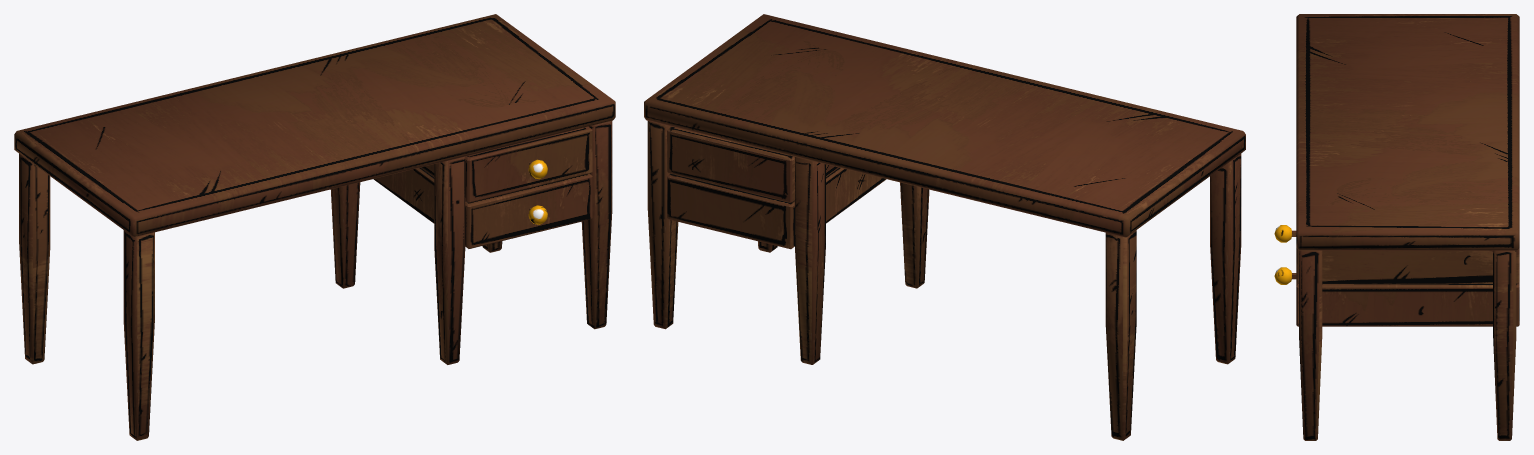
Rendered from Desk.glb.
3 views of the same model, side by side, from view 1: azimuth 30°, elevation 25°; view 2: azimuth 150°, elevation 25°; view 3: azimuth 270°, elevation 25° (orthographic). The views are drawn at different scales.
Visible parts, largest first — view 1: Desk, Desk.002, Desk.001; view 2: Desk, Desk.002, Desk.001; view 3: Desk, Desk.002, Desk.001.
Part boxes in pixels (<box>): Desk: <box>14,14,615,440</box>; Desk.002: <box>373,167,592,248</box>; Desk.001: <box>420,126,592,202</box>; Desk: <box>644,14,1245,440</box>; Desk.002: <box>667,167,886,249</box>; Desk.001: <box>667,126,838,202</box>; Desk: <box>1296,14,1519,440</box>; Desk.002: <box>1274,267,1519,326</box>; Desk.001: <box>1274,225,1519,283</box>.
Bounding box in the file's own units: 9.49 × 4.27 × 4.47.
1 material, 1 textured.
